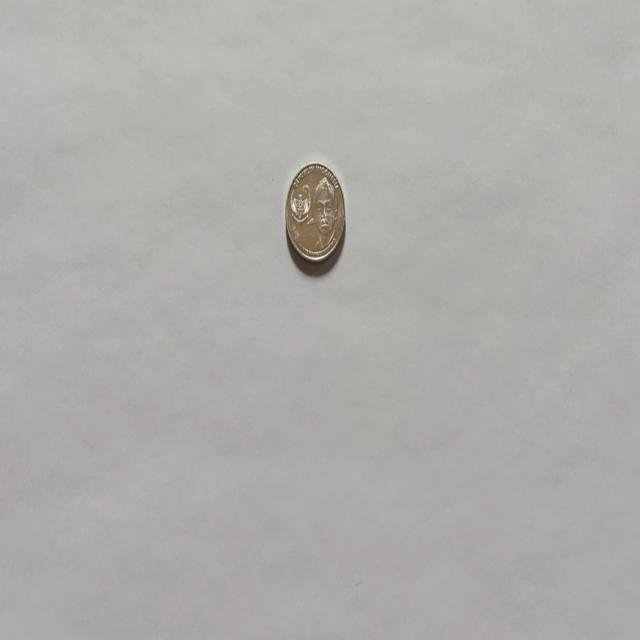dua ratus rupiah: (284, 161, 346, 264)
